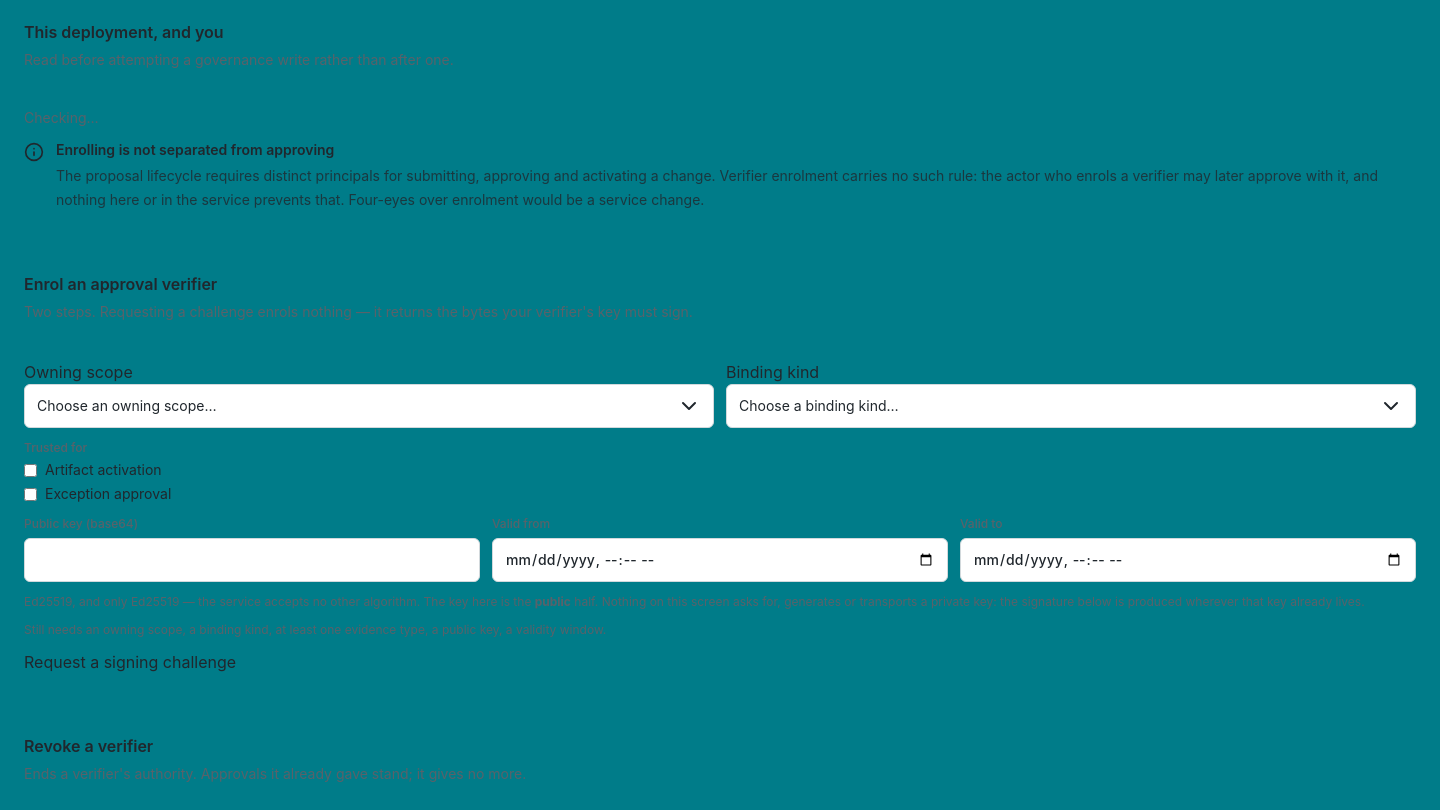
Test: VerifierEnrolmentPanel › offers only the fields the chosen binding kind allows
Click the dropdown labelled "Choose a binding kind…" at {"x": 819, "y": 406}, box 726,384 -> 1416,428
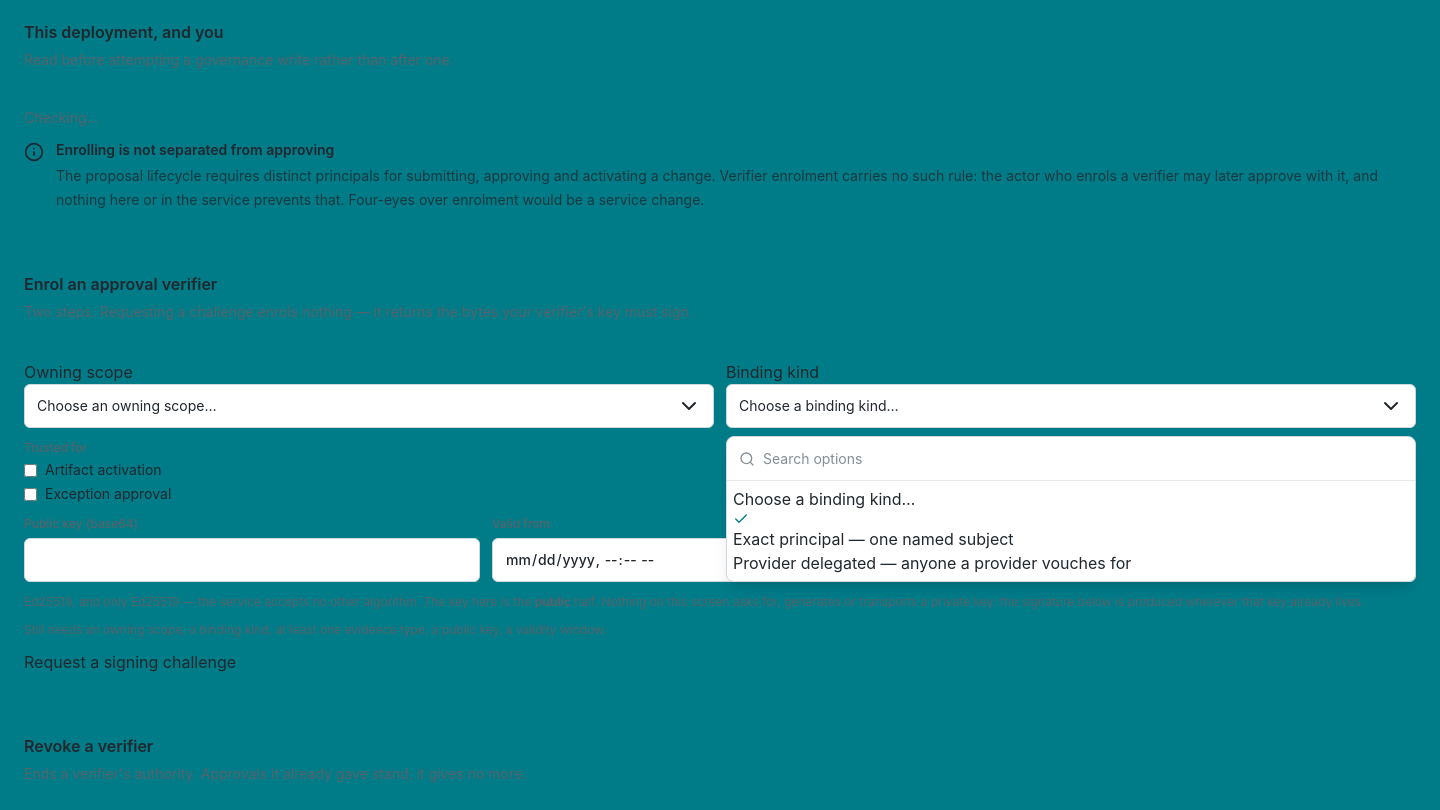
Click the option "Exact principal — one named subject" at {"x": 873, "y": 539}, box 733,529 -> 1014,549
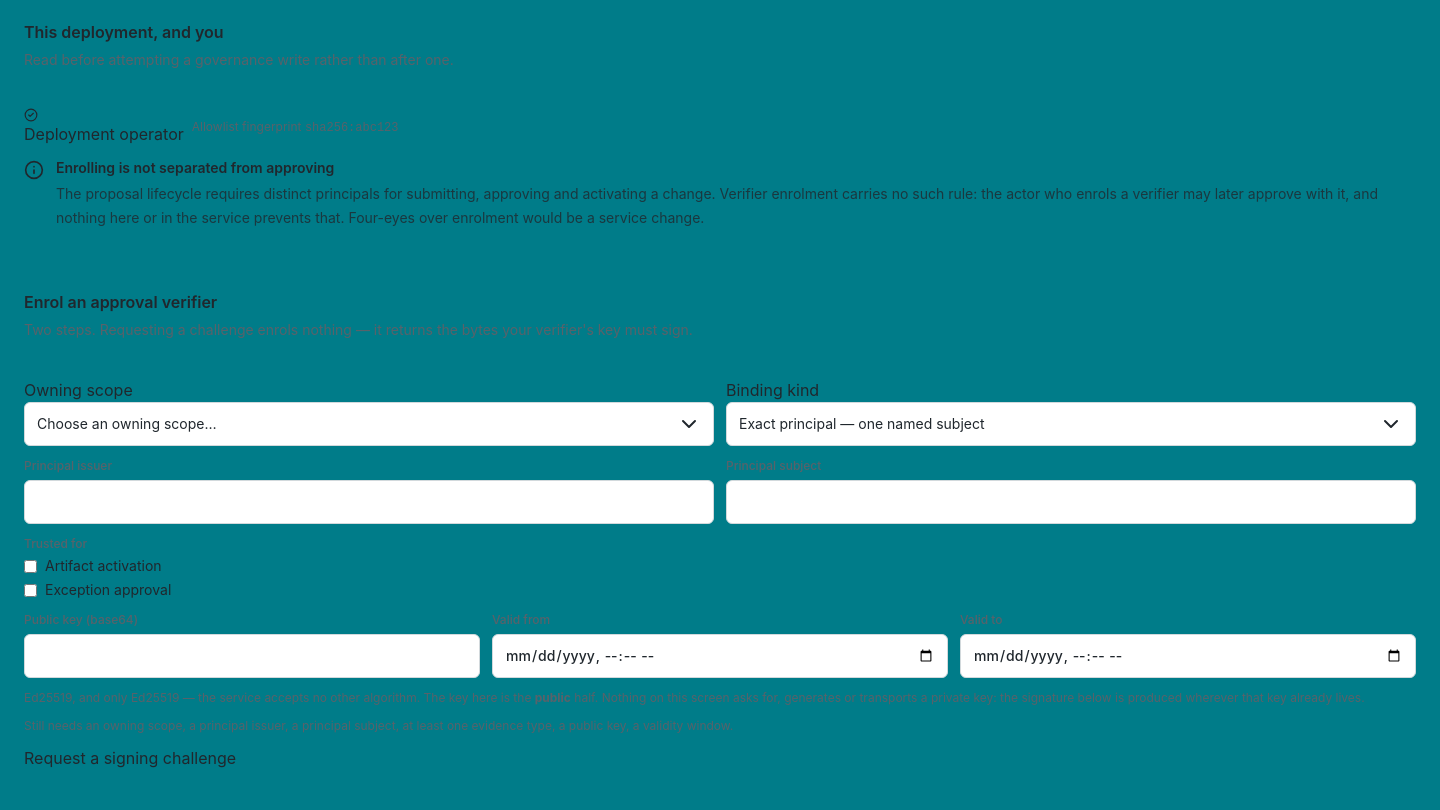
Expected: the field labelled "Principal issuer" is shown, 24,480 -> 714,524
Expected: the option labelled "Provider" is gone
Click the dropdown named "Binding kind" at {"x": 862, "y": 424}, box 726,402 -> 1416,446
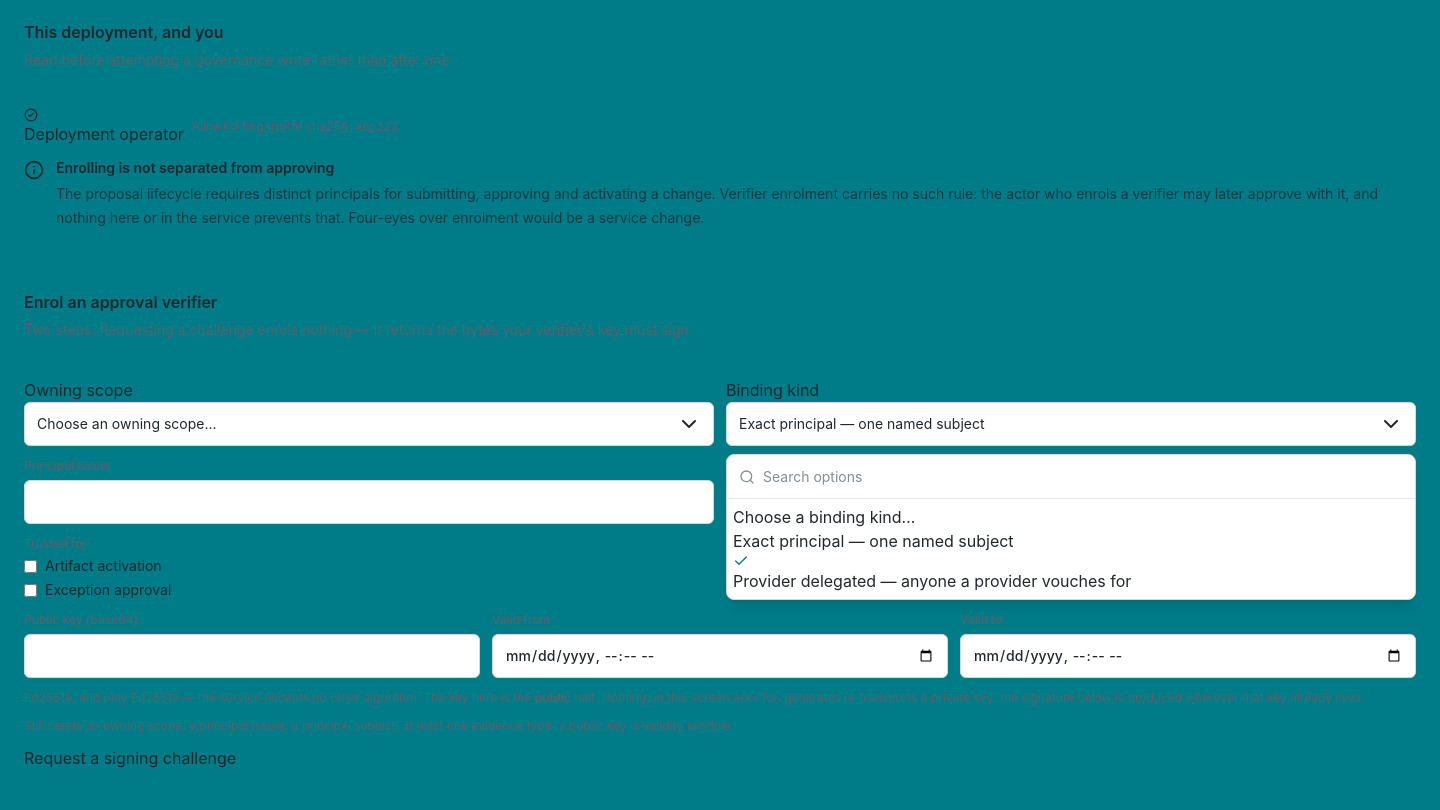
Click the option "Provider delegated — anyone a provider vouches for" at {"x": 932, "y": 581}, box 733,571 -> 1131,591
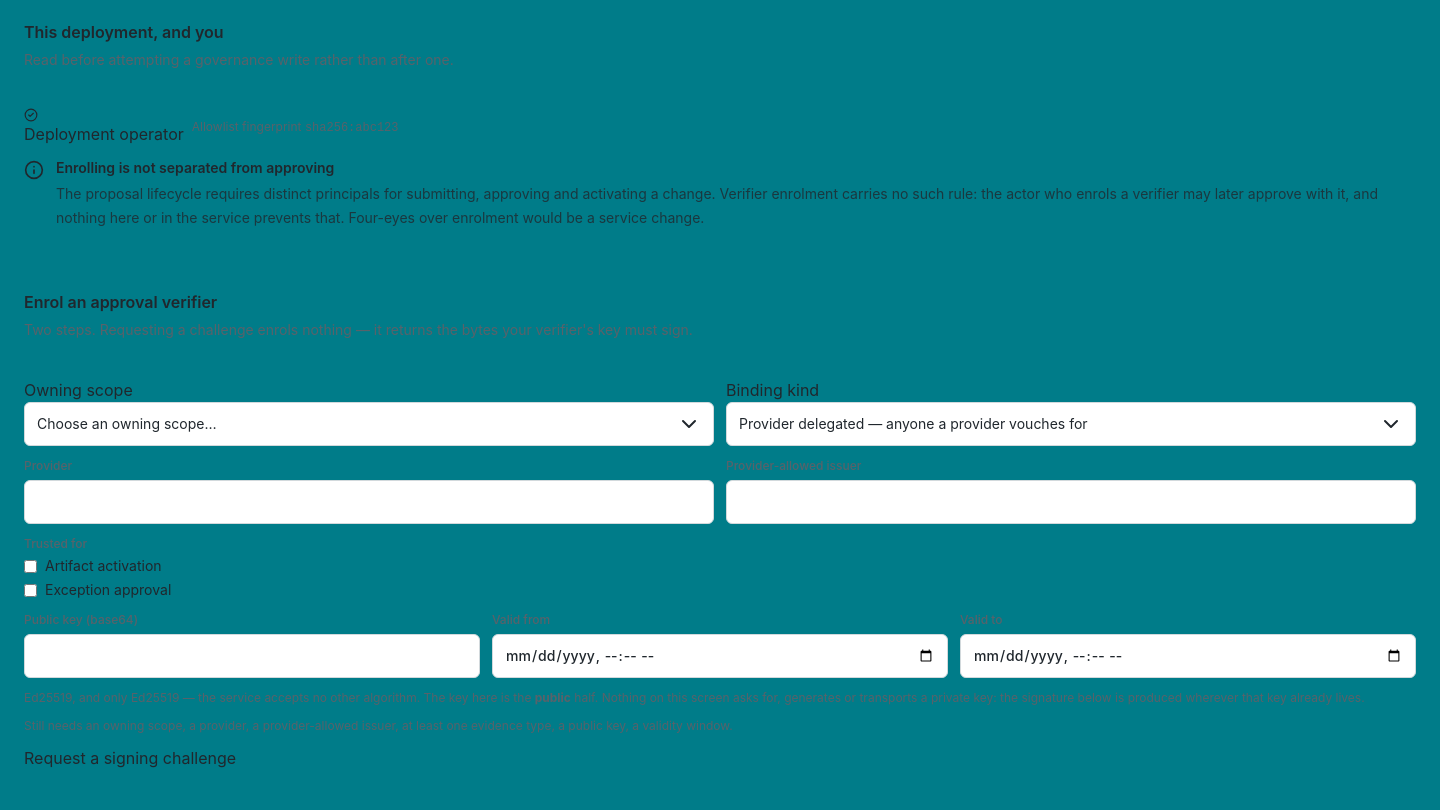
Expected: the field labelled "Provider" is shown, 24,480 -> 714,524
Expected: the label labelled "Principal issuer" is gone
